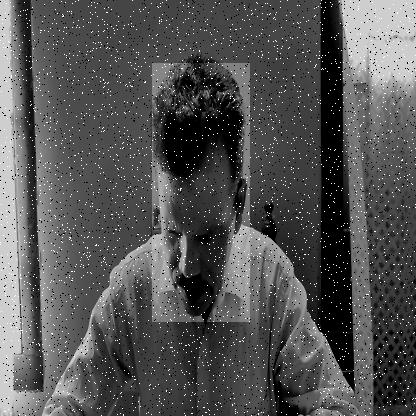Distracted: (152, 63, 250, 322)
